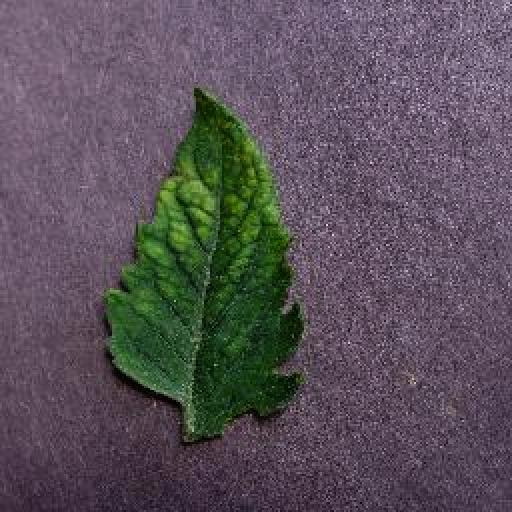Mosaic Virus: (102, 86, 308, 424)
